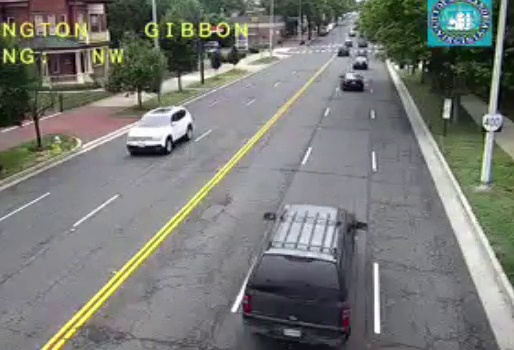car: (243, 205, 353, 346), (342, 74, 365, 92)
